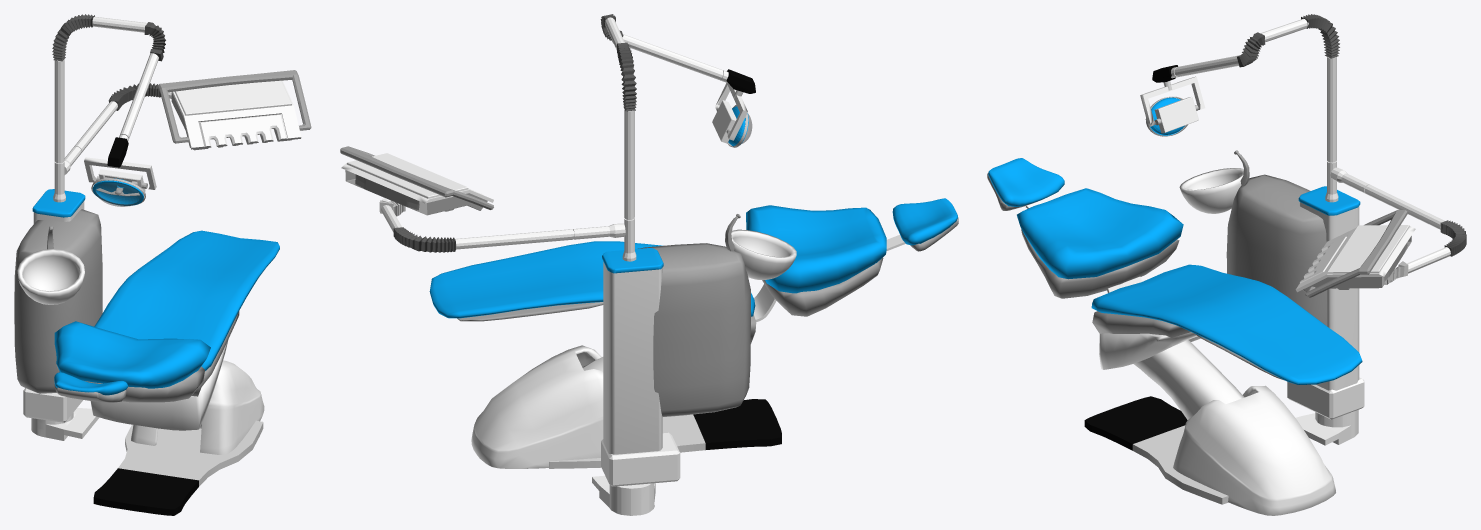
File: Dentist_Chair.fbx
The picture shows the model from 3 angles, left to right: view 1: azimuth 30°, elevation 25°; view 2: azimuth 150°, elevation 25°; view 3: azimuth 270°, elevation 25°; orthographic projection. The views are drawn at different scales.
Visible parts, largest first — view 1: Base (×2), leg_cushion, body_cushion, Cover, Base2, Holder, center_frame, Bowl1, Main, rod3, top, base (+13 smaller); view 2: Base (×2), Holder, Base2, leg_cushion, body_cushion, Main, Cover, Bowl1, head_cushion, top, rod2, rod3 (+5 smaller); view 3: leg_cushion, Base (×2), Base2, body_cushion, Holder, Frame_holder, Cover, head_cushion, top, Main, center_frame, Bowl1 (+8 smaller).
Boxes of the visible parts, x1,y1,x2,y2 form: Base (×2): (14, 209, 263, 515); leg_cushion: (94, 230, 279, 370); body_cushion: (54, 321, 210, 388); Cover: (172, 80, 301, 149); Base2: (131, 360, 264, 454); Holder: (23, 189, 99, 440); center_frame: (90, 340, 228, 430); Bowl1: (17, 248, 84, 304); Main: (157, 70, 311, 150); rod3: (53, 59, 65, 202); top: (56, 365, 204, 402); base: (84, 157, 156, 194); Base (×2): (549, 243, 781, 468); Holder: (592, 248, 680, 515); Base2: (471, 345, 603, 468); leg_cushion: (429, 241, 755, 318); body_cushion: (746, 205, 886, 293); Main: (340, 146, 493, 215); Cover: (341, 153, 493, 203); Bowl1: (731, 229, 796, 279); head_cushion: (892, 198, 957, 245); top: (762, 257, 883, 316); rod2: (455, 223, 625, 249); rod3: (622, 109, 636, 261); leg_cushion: (1091, 264, 1362, 384); Base (×2): (1084, 174, 1327, 504); Base2: (1173, 385, 1335, 515); body_cushion: (1017, 188, 1183, 279); Holder: (1287, 186, 1364, 445); Frame_holder: (1133, 340, 1244, 419); Cover: (1295, 225, 1415, 292); head_cushion: (988, 158, 1064, 206); top: (1021, 229, 1179, 298); Main: (1302, 210, 1411, 297); center_frame: (1099, 332, 1200, 369); Bowl1: (1179, 168, 1243, 213).
Size of the model in its own units: 497 by 485 by 494.
